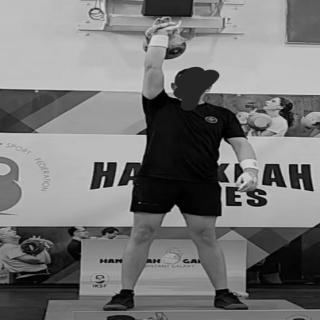kettlebell: (132, 19, 196, 63)
